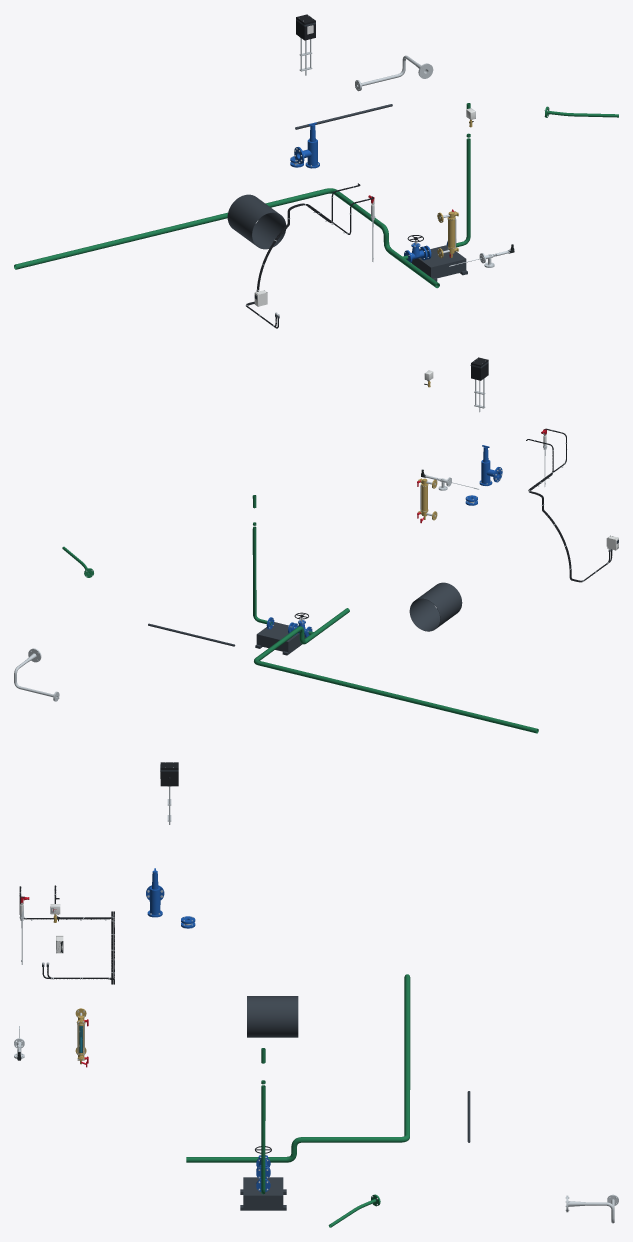
File: s4000-7-DeYfAy53.glb
3 renders of one model, top to bottom at view 1: azimuth 30°, elevation 25°; view 2: azimuth 150°, elevation 25°; view 3: azimuth 270°, elevation 25°, orthographic. The views are drawn at different scales.
Visible parts, largest first — view 1: suction_common / green, flue_spacer / dark, pump_branch_2 / dark, pump_branch_2 / green, safety_1 / blue, fv_to_trap_gap / steel, sight_glasses_2 / sight_glasses_2_0.npz, wiring_lp200 / black, wiring_high_level / black; view 2: suction_common / green, flue_spacer / dark, pump_branch_2 / dark, pump_branch_2 / green; view 3: suction_common / green, flue_spacer / dark, pump_branch_2 / dark, pump_branch_2 / green.
Part boxes in pixels (x1,y1,x2,y2): suction_common / green: (14,188,439,288); flue_spacer / dark: (227,194,286,249); pump_branch_2 / dark: (412,245,467,281); pump_branch_2 / green: (402,103,470,259); safety_1 / blue: (294,122,319,168); fv_to_trap_gap / steel: (355,55,433,91); sight_glasses_2 / sight_glasses_2_0.npz: (437,209,458,258); wiring_lp200 / black: (247,196,373,328); wiring_high_level / black: (246,183,360,326); suction_common / green: (254,608,538,733); flue_spacer / dark: (409,582,462,631); pump_branch_2 / dark: (255,622,305,655); pump_branch_2 / green: (252,495,313,634); suction_common / green: (186,974,410,1162); flue_spacer / dark: (247,996,298,1037); pump_branch_2 / dark: (240,1177,286,1210); pump_branch_2 / green: (261,1048,265,1194).
Size of the model in its own units: 6.71 by 3.7 by 5.88.
